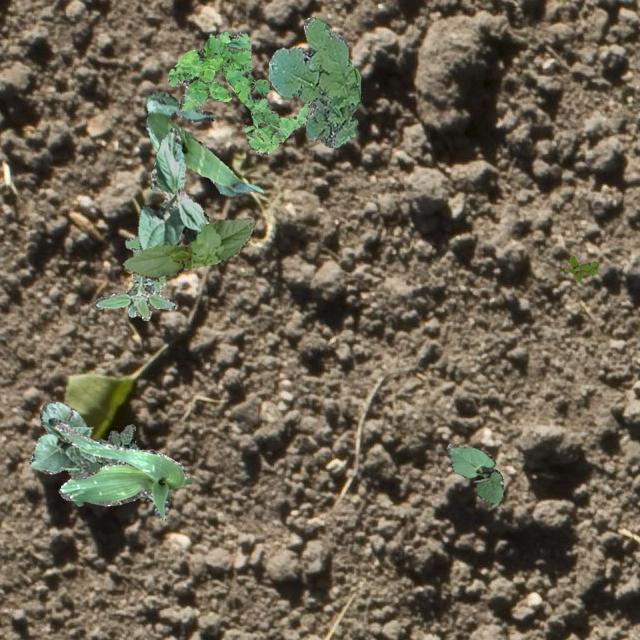crop: (40, 416, 194, 520), (144, 90, 262, 196), (138, 127, 210, 250), (122, 216, 255, 278), (28, 400, 96, 472), (446, 442, 502, 507)
weed: (166, 30, 316, 154), (268, 15, 360, 146), (92, 236, 176, 320), (67, 424, 151, 501), (564, 254, 596, 280)
